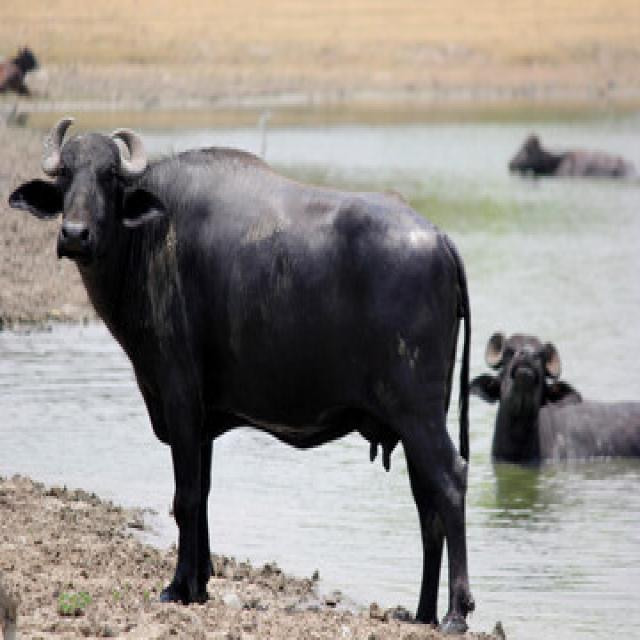Buffalo: (8, 119, 478, 632)
